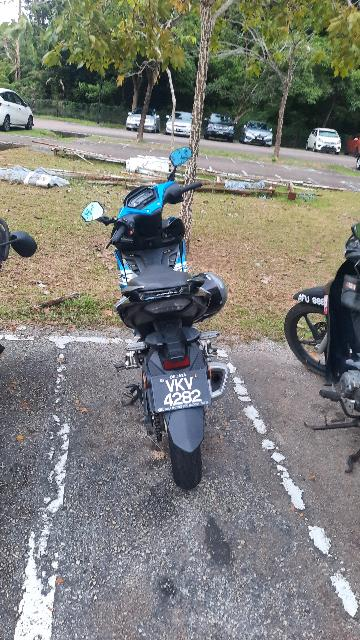License_Plate: (137, 367, 213, 416)
motorcycle: (81, 137, 247, 495)
